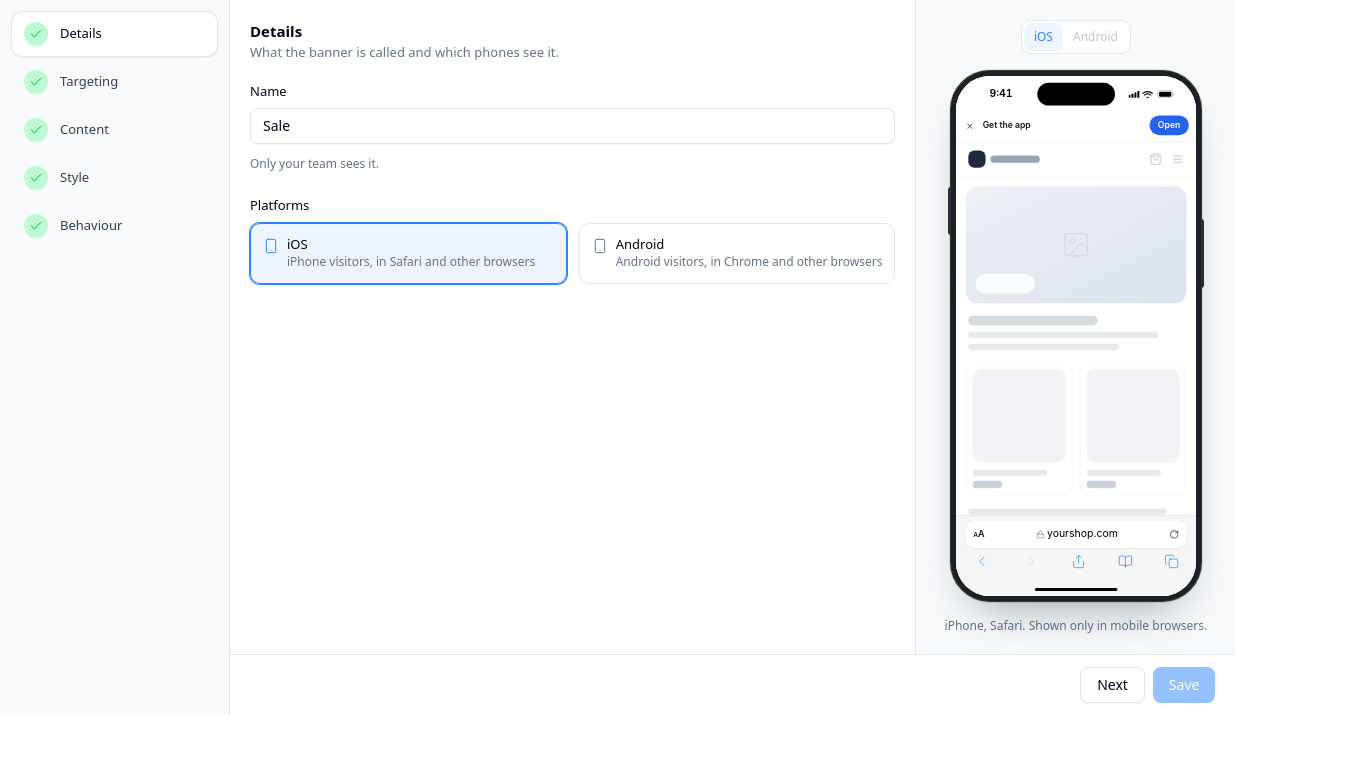
Test: SmartBannerComposer › has no Cancel button and only enables Save on an edited banner once it changes
Expected: the button "Save" is disabled, [1153,667,1215,703]
Type "x" into the field labelled "Name".
click(573, 126); type("x")  # box [250,108,895,144]
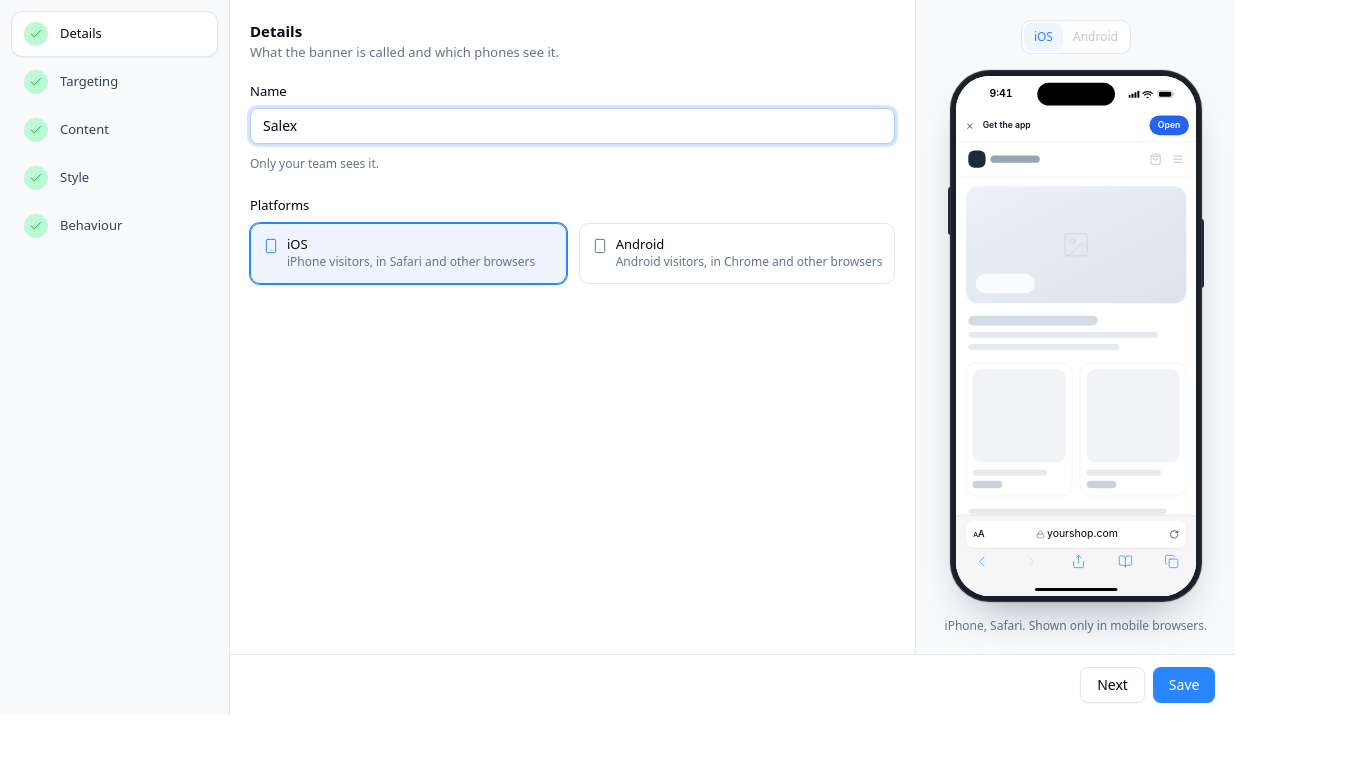
Now the button "Save" is enabled, box [1153,667,1215,703]
